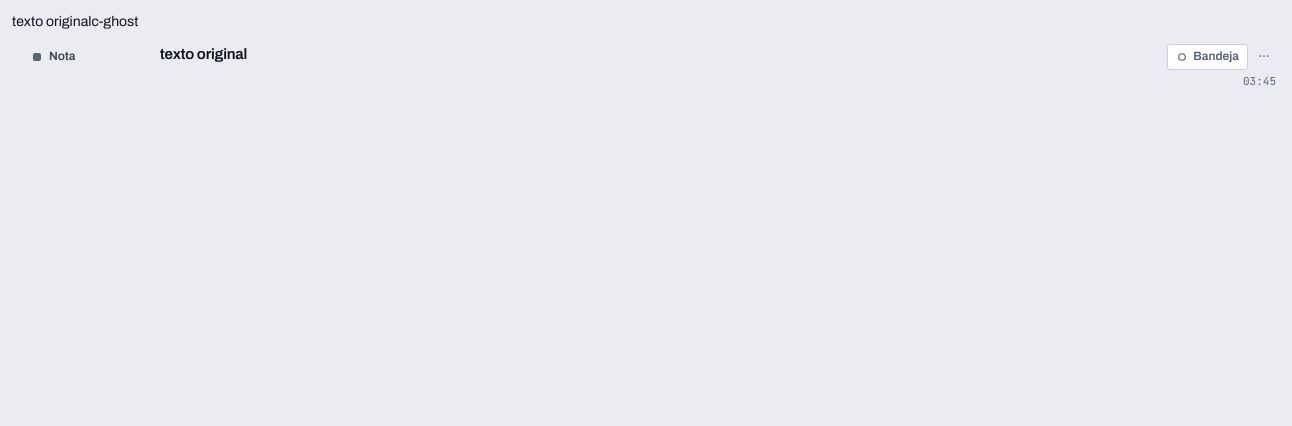
Test case: C2 — editar una nota cuyo contenedor ya no existe › guarda la edición y deja la nota sin contenedor
This screenshot has width=1292, height=426.
Expected: the link "texto original" is shown, [160,46,247,62]
Click the button named "Acciones de la nota" at coordinates (1264, 56), box [1252,44,1276,68]
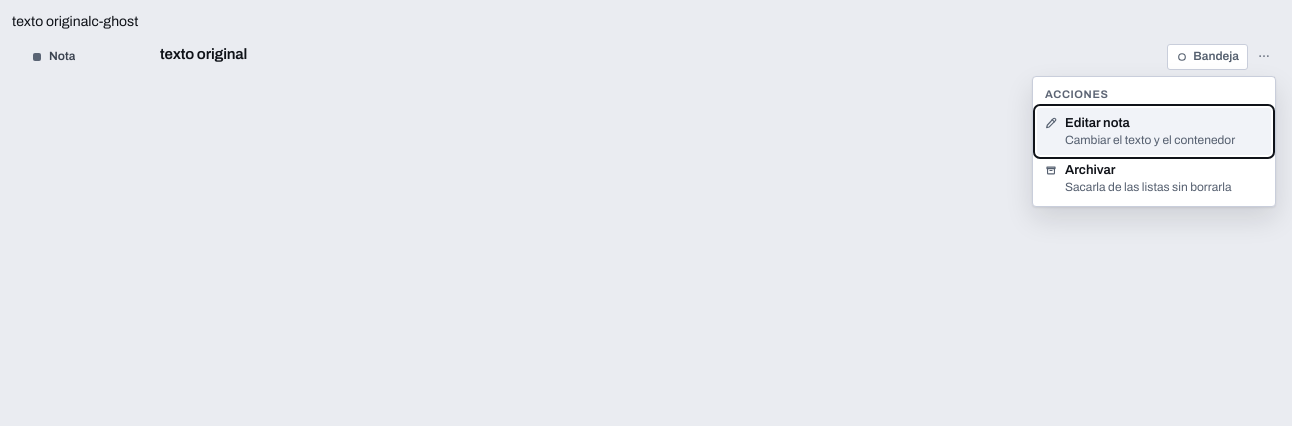
Click the menu item "Editar nota Cambiar el texto y el contenedor" at coordinates (1154, 131), box [1037,108,1271,155]
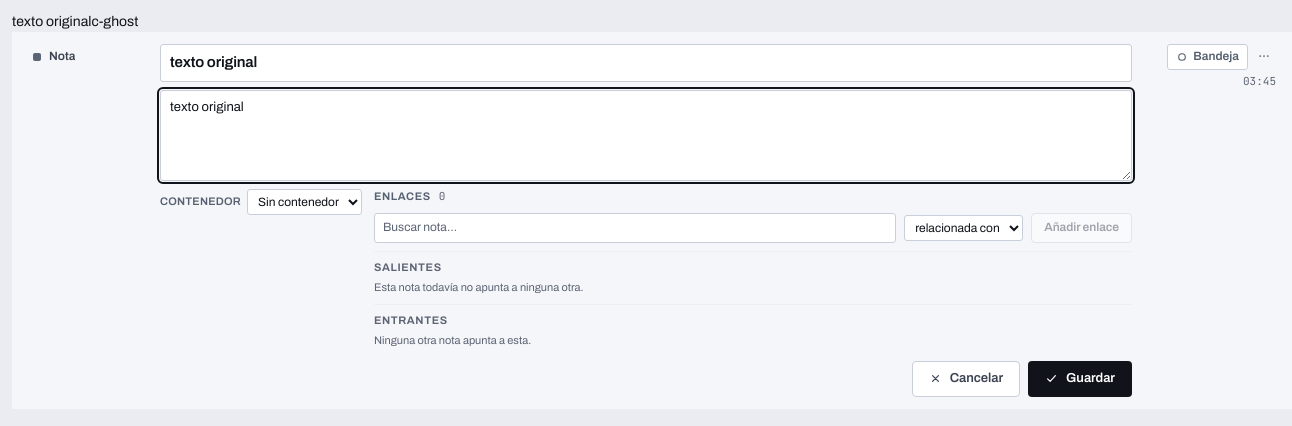
Replace the text in the text box named "Texto de la nota" with "texto corregido" at coordinates (646, 136), box [160,90,1132,181]
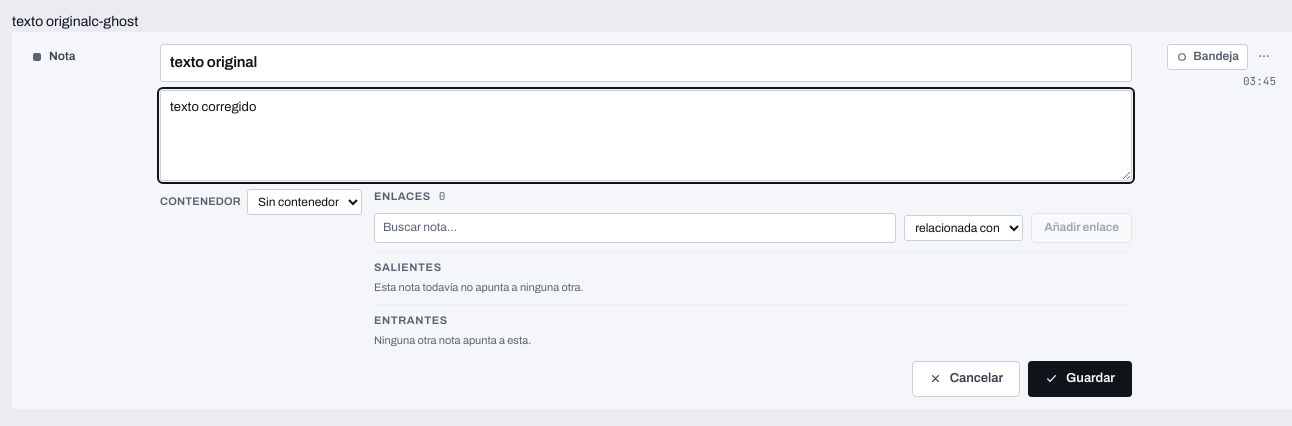
Click the button "Guardar" at coordinates (1080, 378), box [1028,360,1132,396]
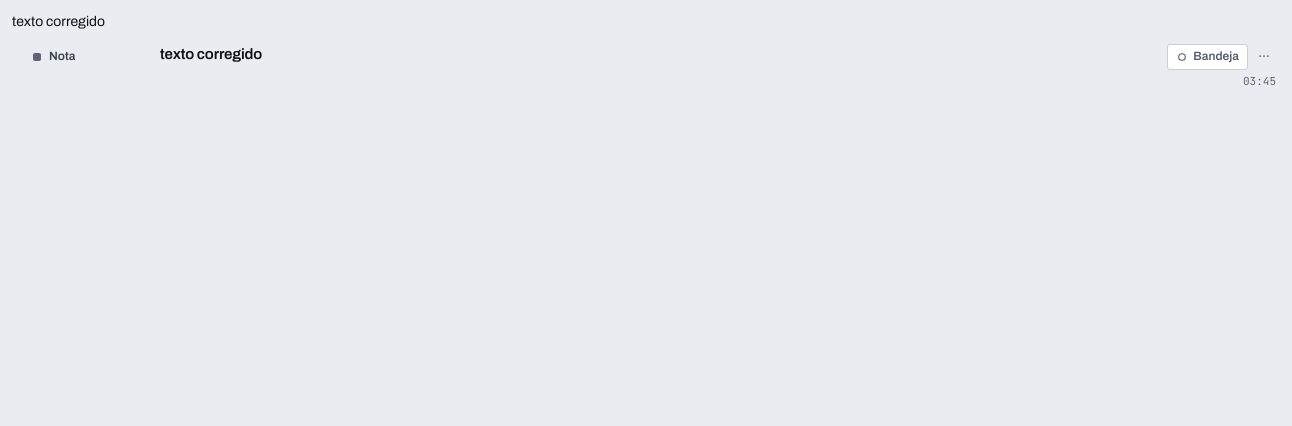
Expected: the field labelled "Texto de la nota" is not shown
Expected: the text "texto corregido" is shown, [12,14,105,29]
